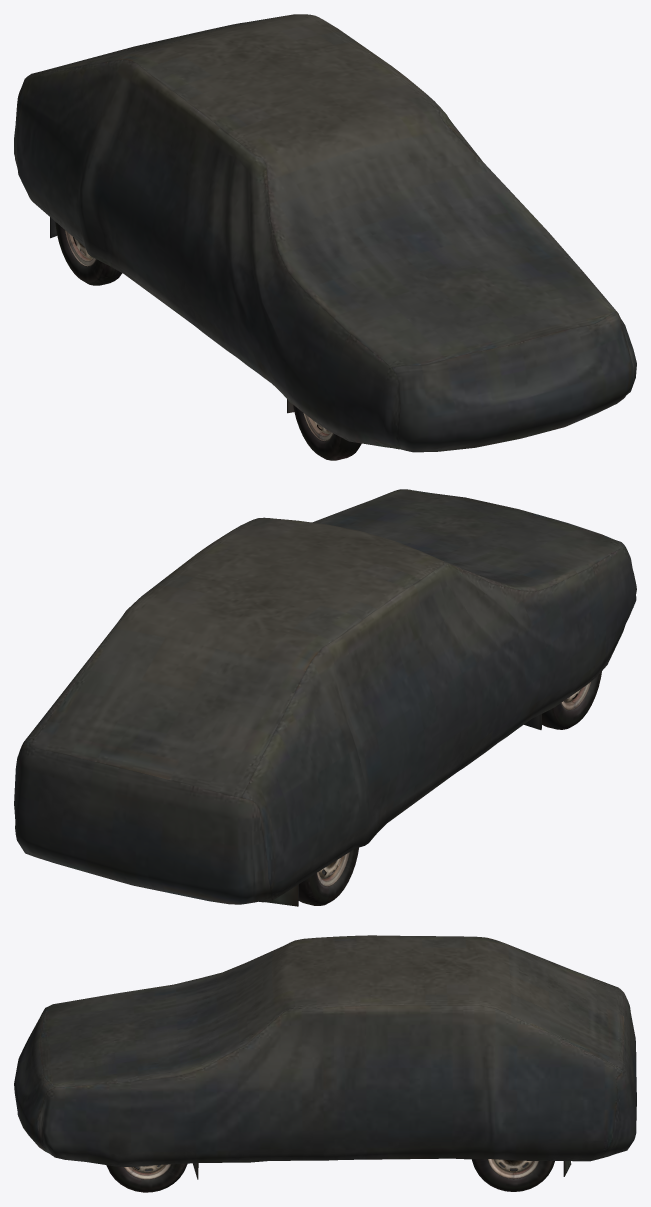
Rendered from covered_car.glb.
The picture shows the model from 3 angles, top to bottom: view 1: azimuth 30°, elevation 25°; view 2: azimuth 150°, elevation 25°; view 3: azimuth 270°, elevation 25°; orthographic projection. The views are drawn at different scales.
Visible parts, largest first — view 1: covered_car, covered_car_wheel_03, covered_car_wheel_02; view 2: covered_car, covered_car_wheel_03, covered_car_wheel_02; view 3: covered_car, covered_car_wheel_04, covered_car_wheel_01.
Boxes of the visible parts, left/top/right/bottom form: covered_car: left=14, top=14, right=636, bottom=452; covered_car_wheel_03: left=55, top=222, right=122, bottom=285; covered_car_wheel_02: left=293, top=405, right=361, bottom=460; covered_car: left=14, top=489, right=636, bottom=906; covered_car_wheel_03: left=298, top=847, right=358, bottom=905; covered_car_wheel_02: left=542, top=671, right=601, bottom=729; covered_car: left=14, top=935, right=636, bottom=1179; covered_car_wheel_04: left=472, top=1159, right=554, bottom=1191; covered_car_wheel_01: left=106, top=1163, right=187, bottom=1192.
Size of the model in its own units: 1.79 by 1.41 by 4.38.
Materials: 2 (2 with a texture image).
